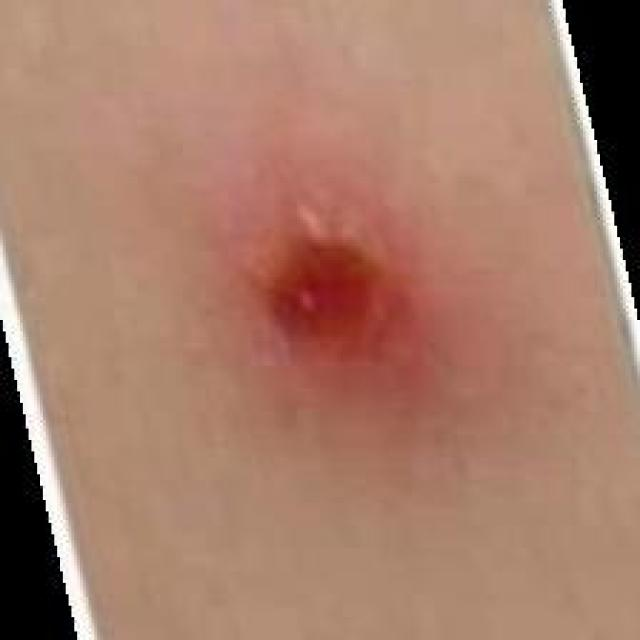others: (23, 0, 577, 629)
